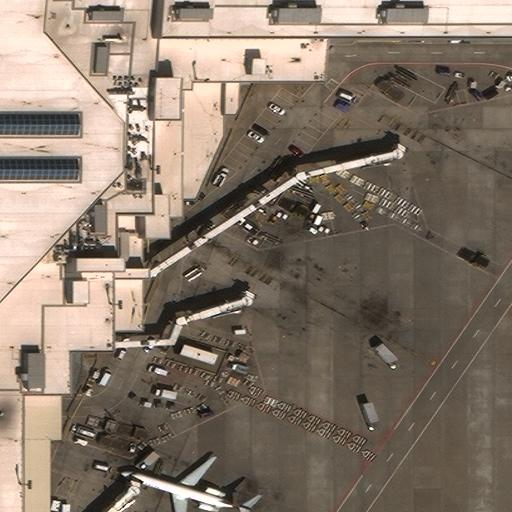Medium Civil Transport: (120, 456, 251, 512)
